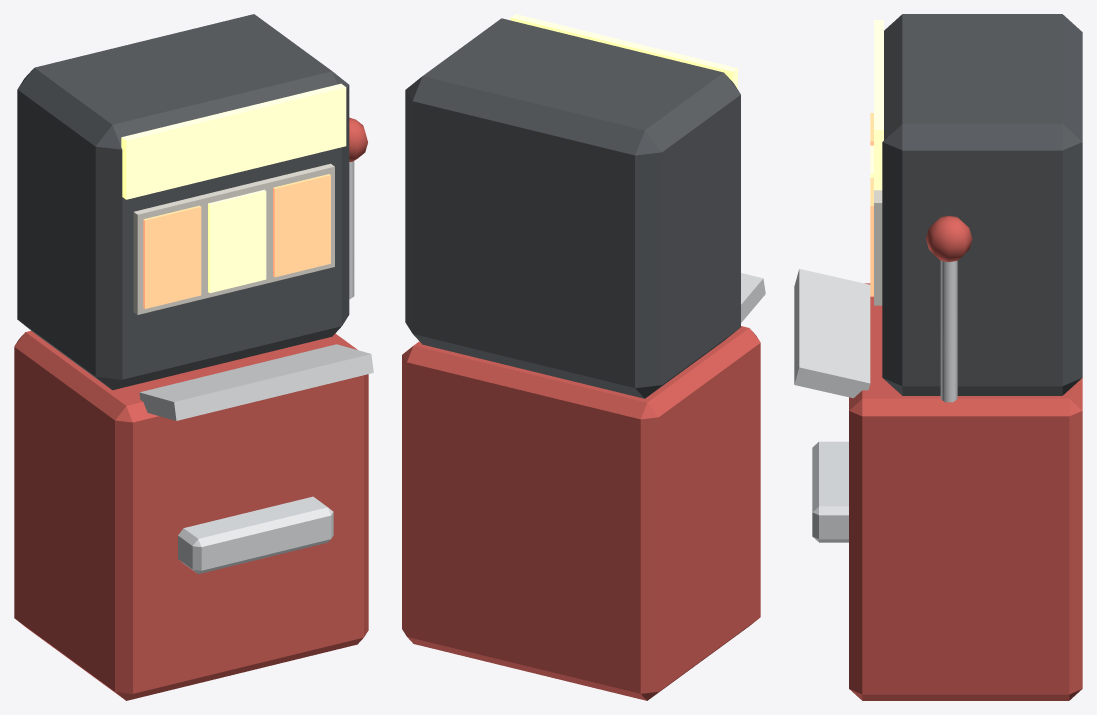
Rendered from an_slot.glb.
3 views of the same model, side by side, from view 1: azimuth 30°, elevation 25°; view 2: azimuth 150°, elevation 25°; view 3: azimuth 270°, elevation 25° (orthographic). The views are drawn at different scales.
Parts seen in each view (by area): view 1: an_slot; view 2: an_slot; view 3: an_slot.
Boxes of the visible parts, x1,y1,x2,y2 form: an_slot: (14, 14, 373, 700); an_slot: (402, 14, 765, 700); an_slot: (794, 14, 1082, 700).
Bounding box in the file's own units: 1.04 × 1.9 × 0.864.
